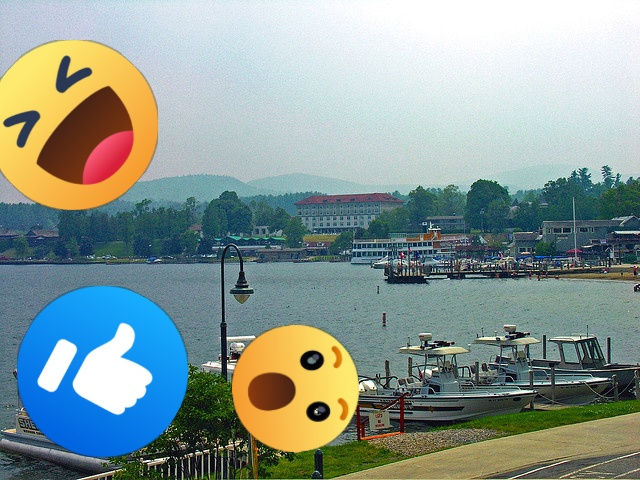haha: (0, 40, 158, 210)
like: (17, 286, 188, 457)
wow: (232, 325, 359, 452)
